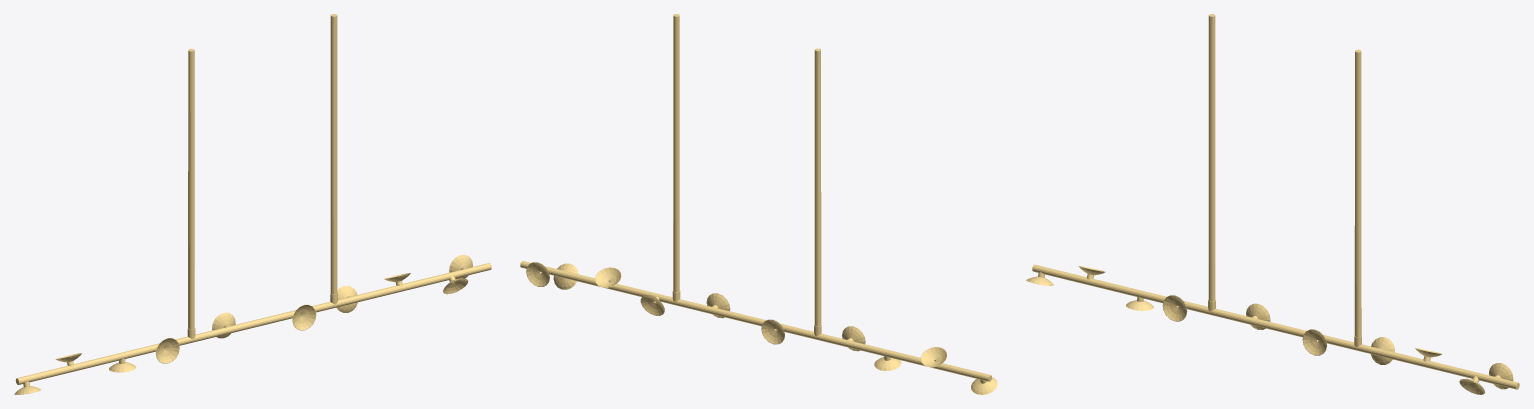
File: body.glb
The picture shows the model from 3 angles, left to right: view 1: azimuth 30°, elevation 25°; view 2: azimuth 150°, elevation 25°; view 3: azimuth 330°, elevation 25°; orthographic projection. The views are drawn at different scales.
Visible parts, largest first — view 1: body; view 2: body; view 3: body.
Boxes of the visible parts, x1,y1,x2,y2 form: body: (14, 14, 491, 394); body: (520, 14, 997, 394); body: (1026, 14, 1519, 394).
Bounding box in the file's own units: 0.4235 × 0.26 × 0.028.
1 material, 1 textured.
